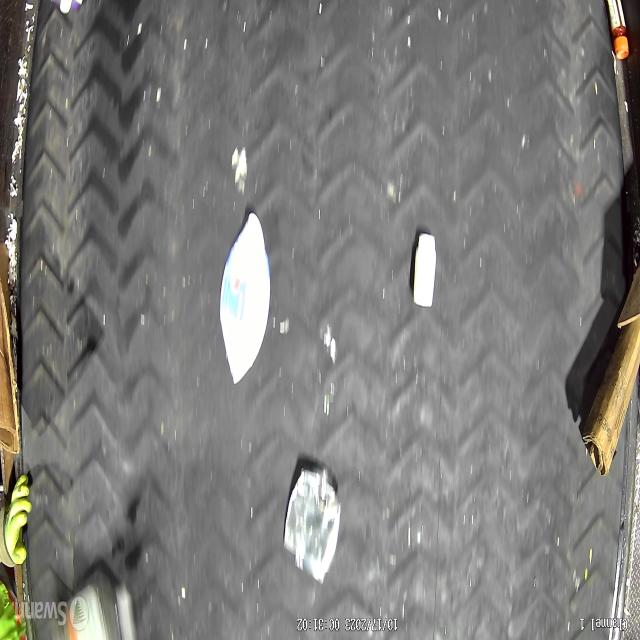can: (283, 468, 342, 585)
non_white_jug: (217, 212, 271, 388)
